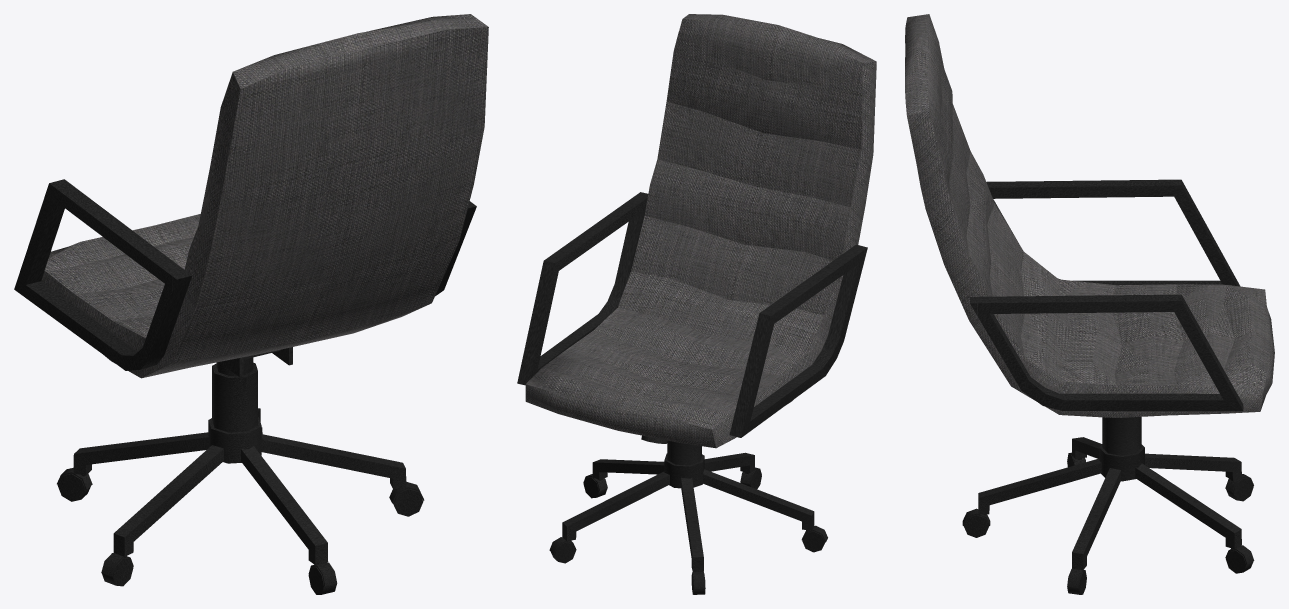
Rendered from CIC_Chair.fbx.
The picture shows the model from 3 angles, left to right: view 1: azimuth 30°, elevation 25°; view 2: azimuth 150°, elevation 25°; view 3: azimuth 270°, elevation 25°; orthographic projection. The views are drawn at different scales.
Parts seen in each view (by area): view 1: TC; view 2: TC; view 3: TC.
Part boxes in pixels (bbox=[...]): TC: bbox=[14, 14, 488, 594]; TC: bbox=[517, 14, 876, 594]; TC: bbox=[905, 14, 1274, 594].
Size of the model in its own units: 0.6042 by 1.06 by 0.7291.
